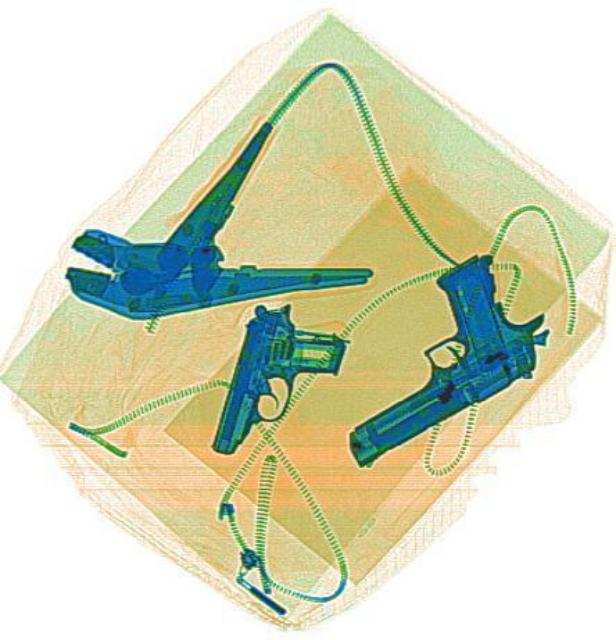Gun: (288, 241, 565, 467), (206, 294, 352, 473)
